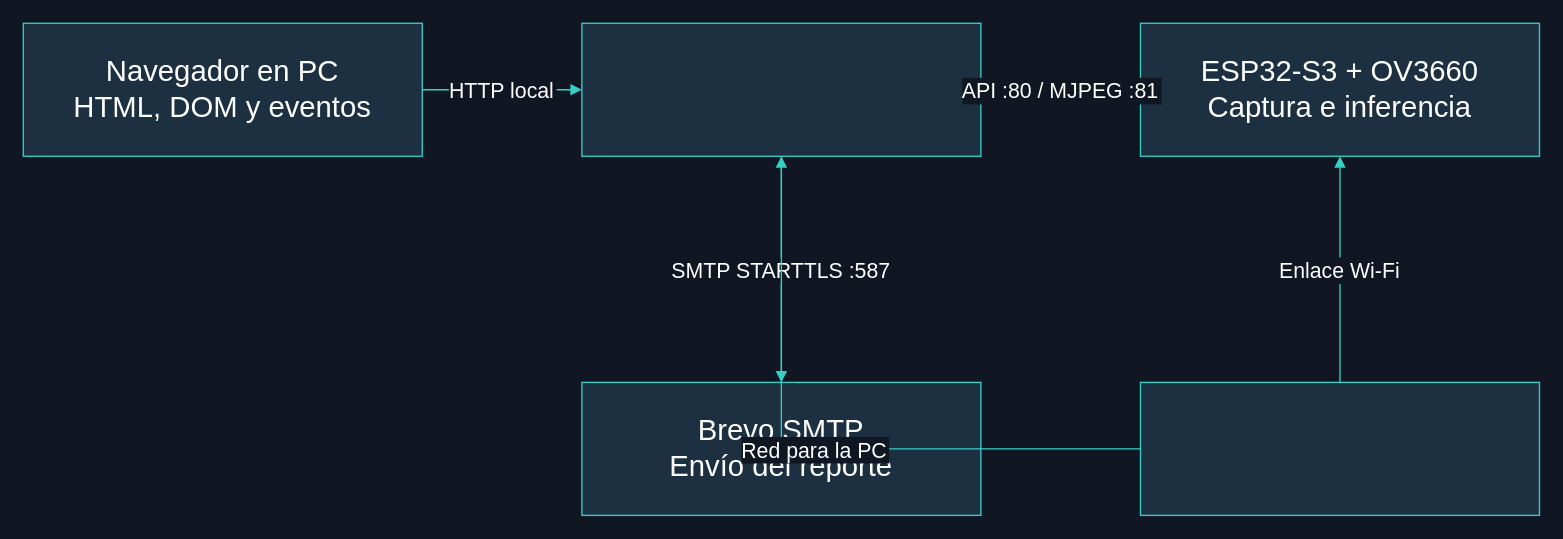
The diagram is 1563 pixels wide and 539 high, and some of its shapes have lost their labels. Here are the shapes that lost their labels. From the top down, the box of each, then its label:
(581, 22, 981, 156): Node.js en PC HTTP 127.0.0.1:3000
(1139, 381, 1539, 515): Celular Android Hotspot Wi-Fi 2.4 GHz
